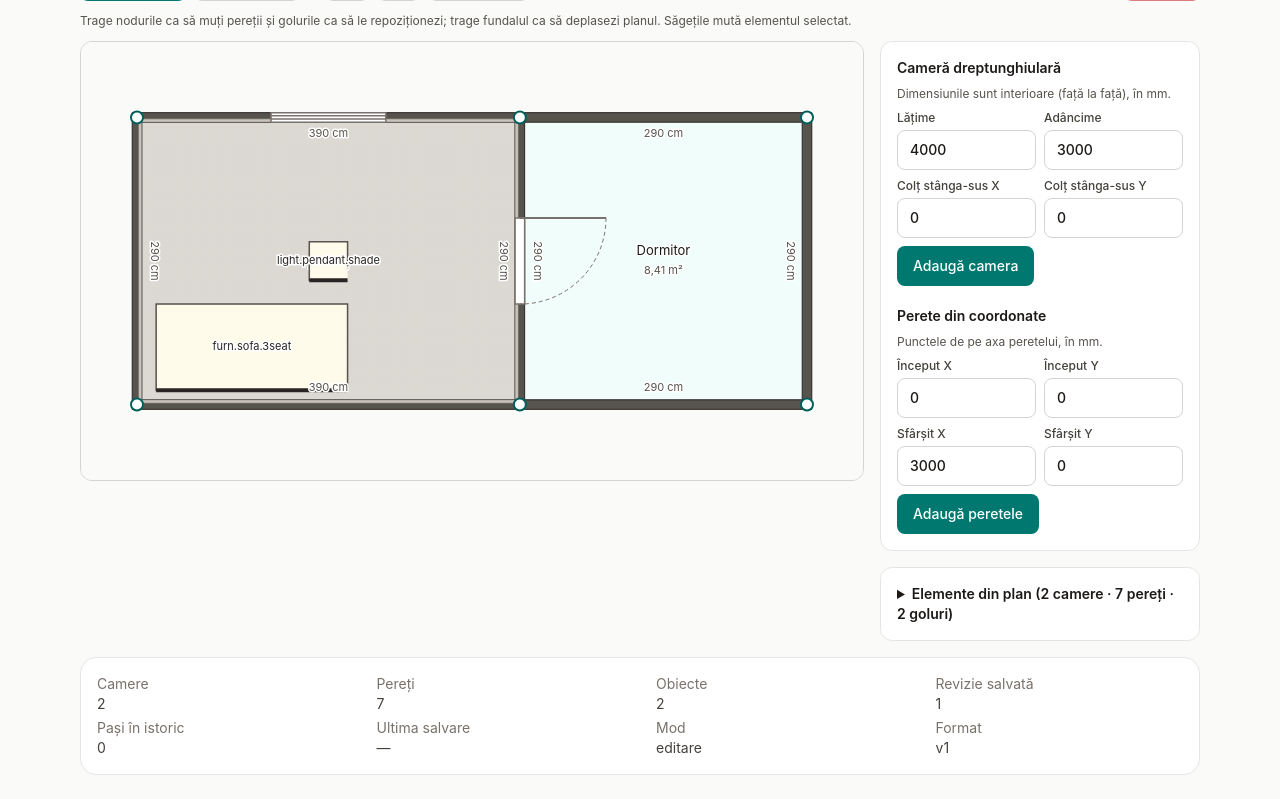
Test case: Plan 2D — selecție și proprietăți › lista de elemente permite selecția fără mouse pe plan
(page scrolled)
Click the heading "Elemente din plan (2 camere · 7 pereți · 2 goluri)": (1040, 604) [897, 584, 1183, 624]
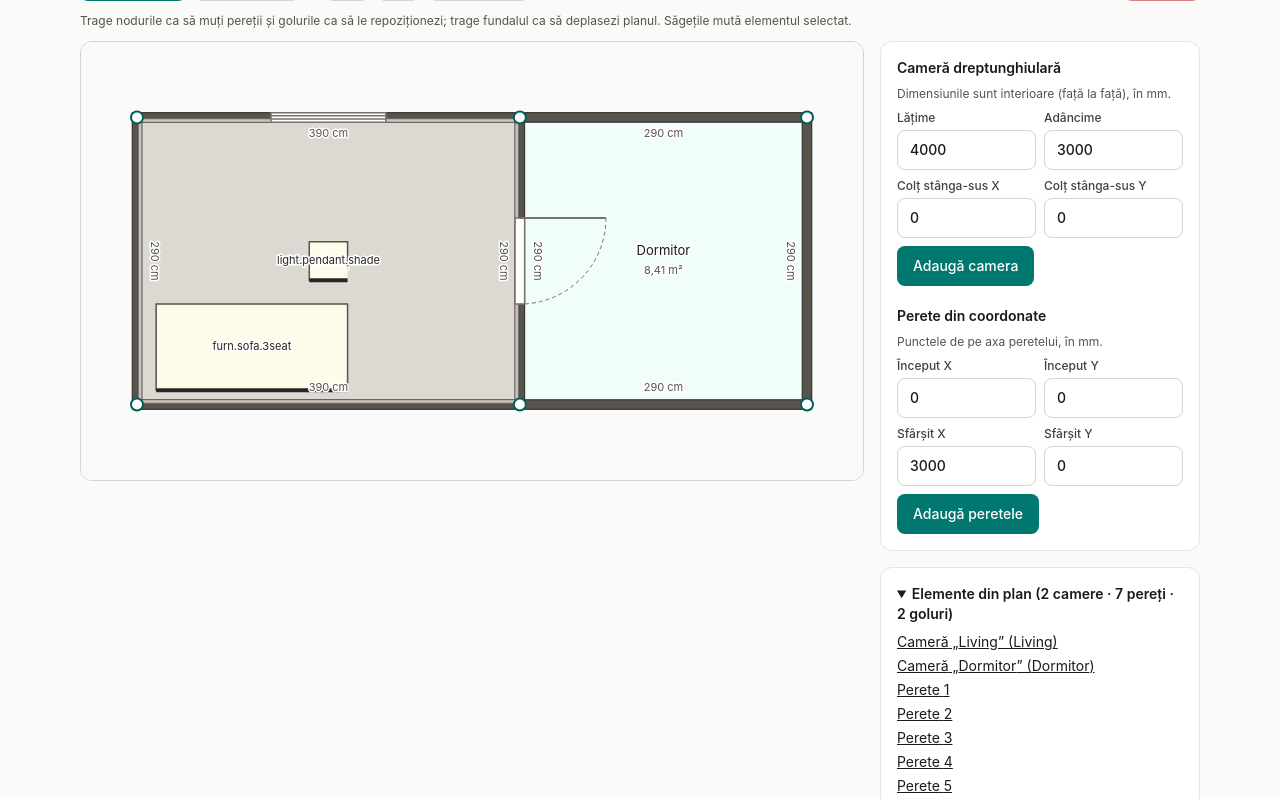
Click the button "Cameră „Dormitor” (Dormitor)": (996, 666) [897, 656, 1094, 676]
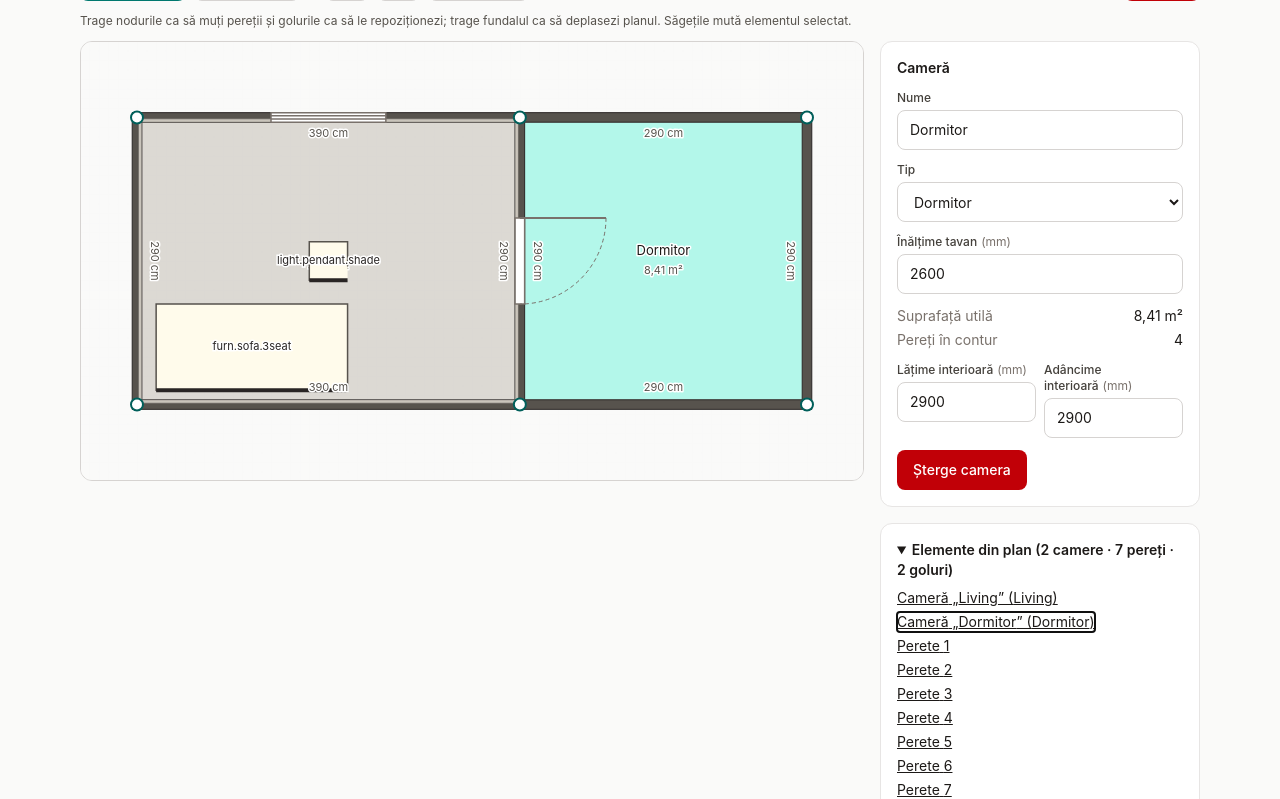
Check: the element with test id "panel-room" is shown, box [897, 58, 1183, 490]
